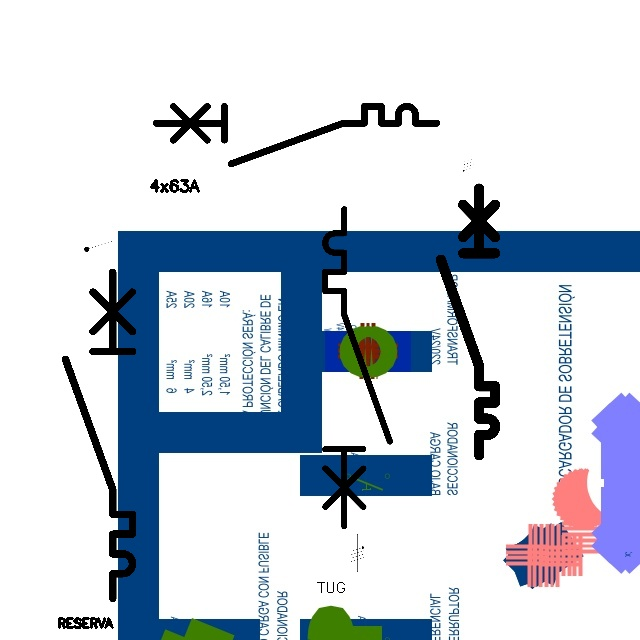interruptor_termomagnetico: (57, 263, 141, 606), (317, 201, 398, 534), (149, 99, 444, 171), (434, 181, 502, 461)
